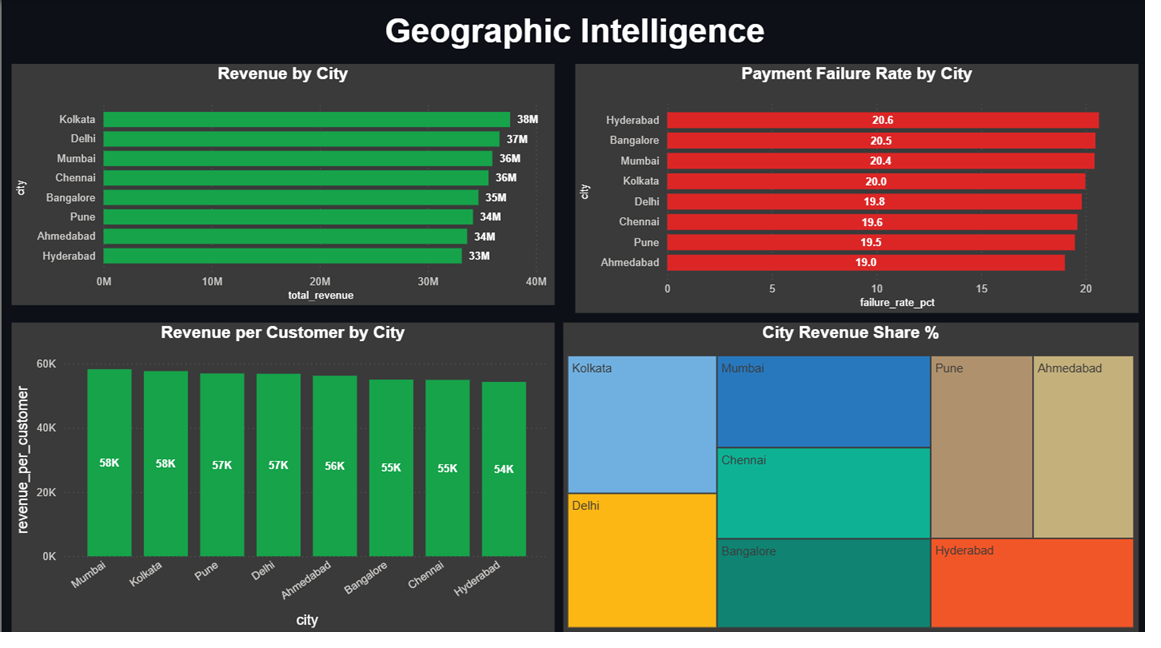

Layout of this report page (visuals, bound fields, positions):
{"tool":"powerbi","page":{"name":"Geographic Intelligence","canvas":[1280,720],"ordinal":3},"visuals":[{"type":"clusteredBarChart","title":"Revenue by City","fields":{"Category":["public vw_city_revenue.city"],"Y":["Sum(public vw_city_revenue.total_revenue)"]},"box":[10.9,71.2,604.4,269],"z":0},{"type":"clusteredColumnChart","title":"Revenue per Customer by City","fields":{"Category":["public vw_city_revenue.city"],"Y":["Sum(public vw_city_revenue.revenue_per_customer)"]},"box":[10.9,359.5,604.4,345],"z":1},{"type":"clusteredBarChart","title":"Payment Failure Rate by City","fields":{"Category":["public vw_city_revenue.city"],"Y":["Sum(public vw_city_revenue.failure_rate_pct)"]},"box":[639.4,71.2,627.3,277.5],"z":2},{"type":"treemap","title":"City Revenue Share %","fields":{"Group":["public vw_city_revenue.city"],"Values":["Sum(public vw_city_revenue.city_revenue_share_pct)"]},"box":[626.1,359.5,640.6,345],"z":3},{"type":"textbox","box":[348.7,7.2,580.3,63.9],"z":4}]}

Visuals, with their boxes in screenshot pixels (x1, y1, x2, y2), scaled from the page's 1280x720 canvas onto the 1161x648 screenshot:
"Revenue by City" clusteredBarChart: [x1=10, y1=64, x2=558, y2=306]
"Revenue per Customer by City" clusteredColumnChart: [x1=10, y1=324, x2=558, y2=634]
"Payment Failure Rate by City" clusteredBarChart: [x1=580, y1=64, x2=1149, y2=314]
"City Revenue Share %" treemap: [x1=568, y1=324, x2=1149, y2=634]
textbox: [x1=316, y1=6, x2=843, y2=64]
